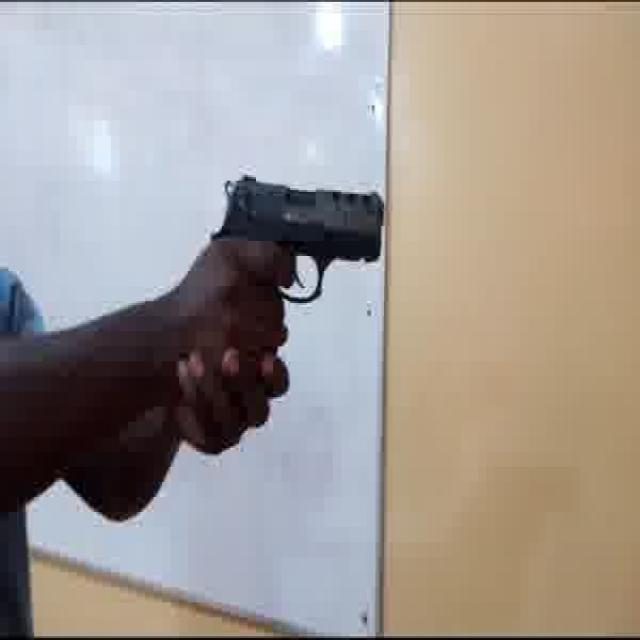weapon: (205, 172, 384, 318)
